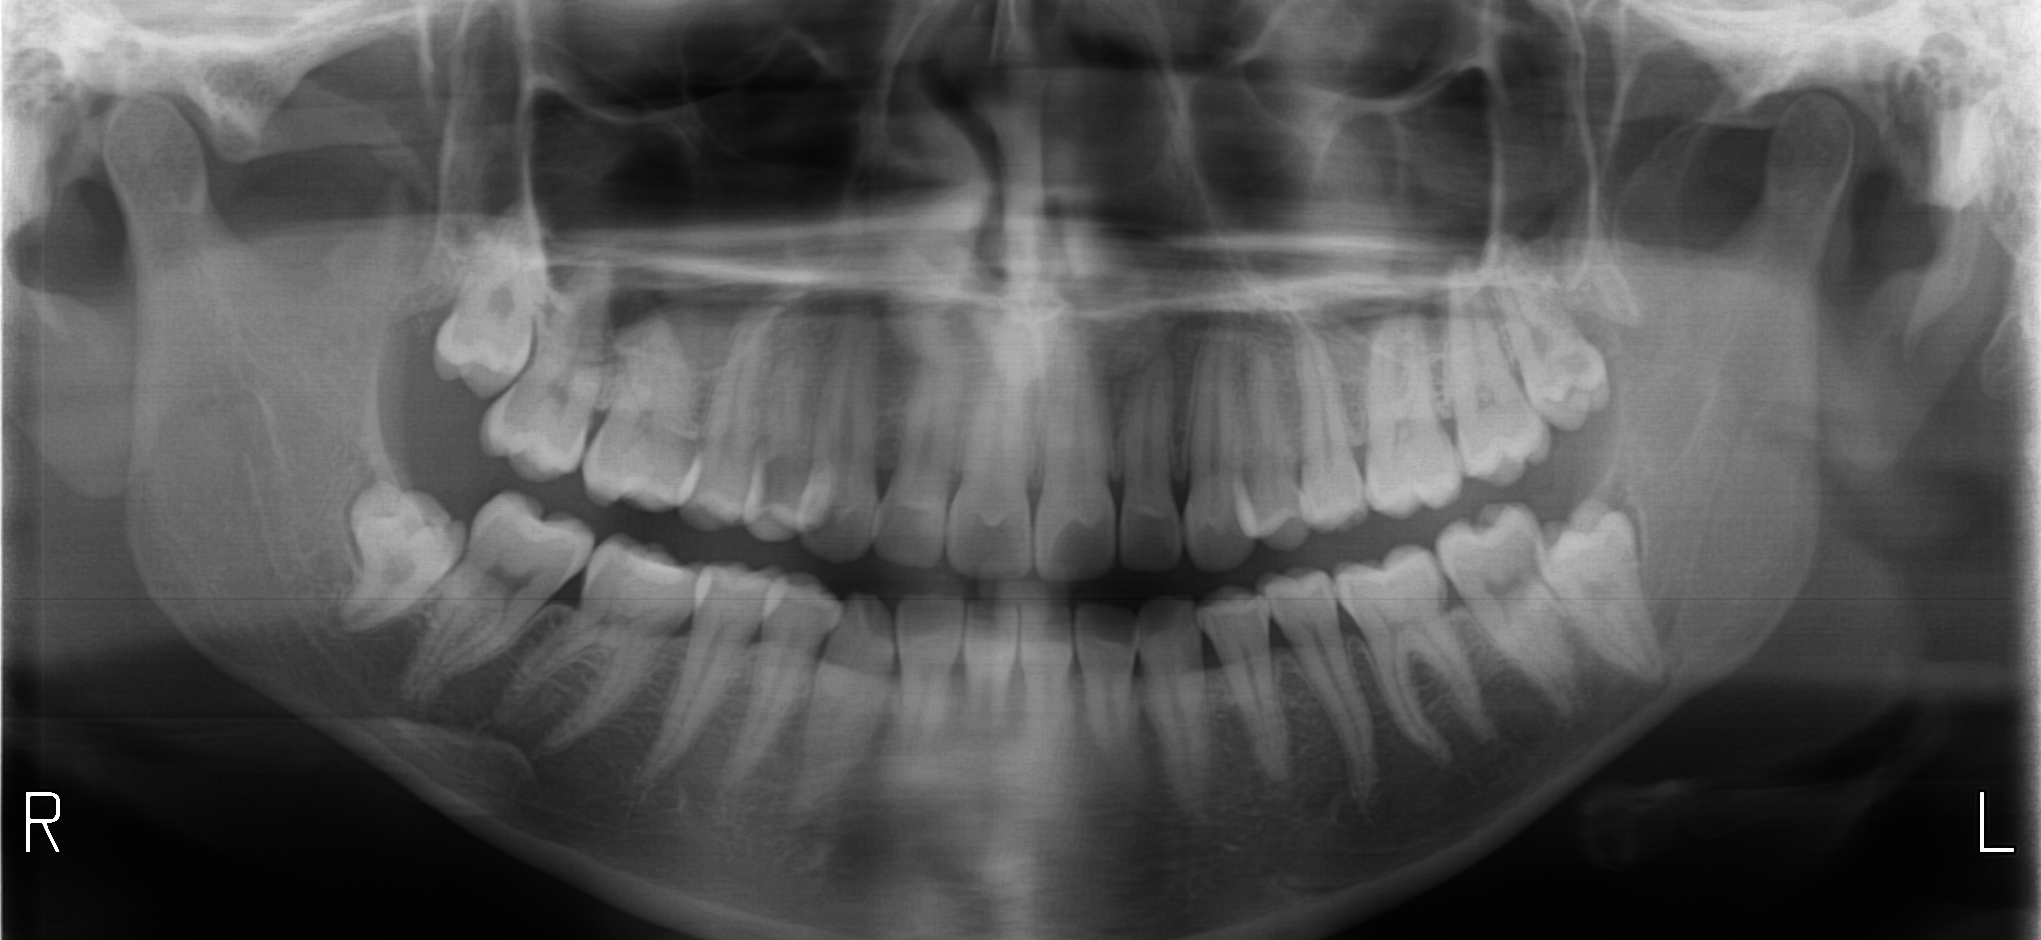cavity: (650, 615, 679, 633)
